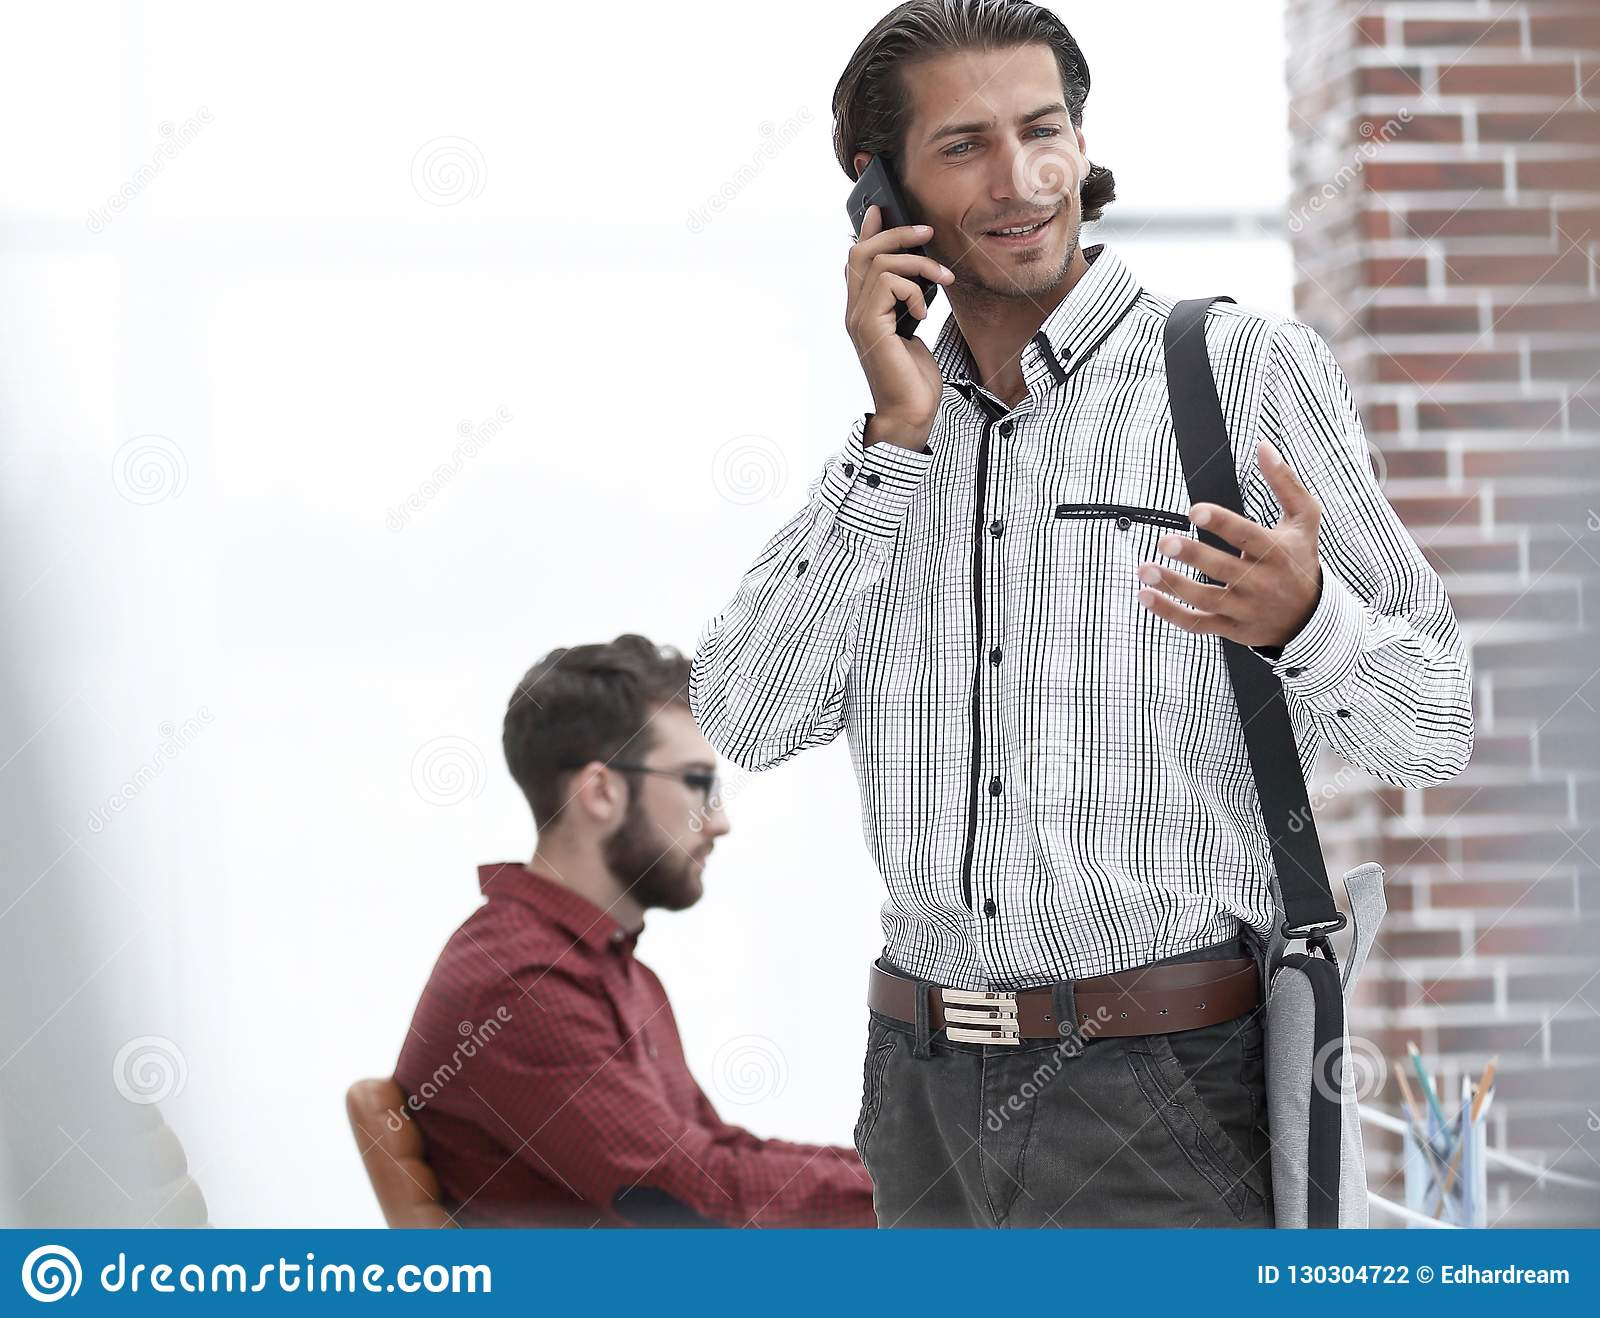phone: (847, 163, 941, 331)
talk: (843, 90, 1076, 452)
